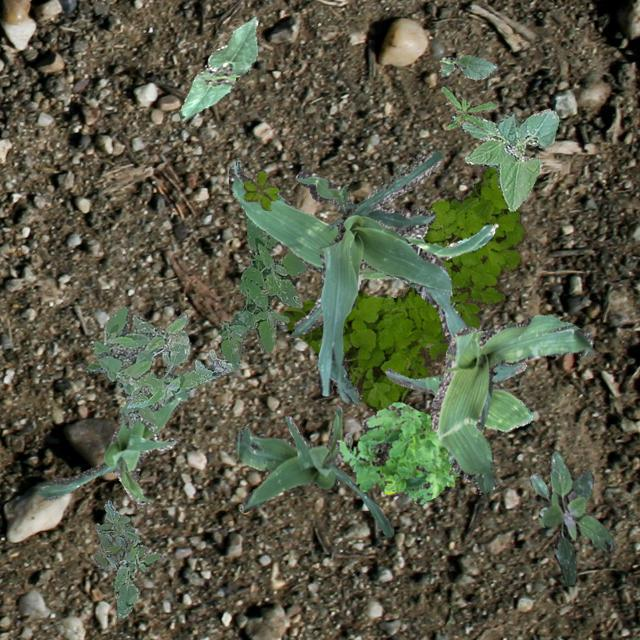crop: (228, 158, 497, 336), (294, 150, 466, 402), (430, 314, 592, 492), (234, 404, 392, 536), (38, 388, 188, 507), (450, 108, 558, 210), (384, 360, 532, 430), (178, 15, 258, 120), (438, 54, 497, 78)
weed: (283, 165, 526, 412), (218, 216, 310, 370), (84, 304, 188, 430), (334, 401, 458, 504), (528, 449, 614, 584), (125, 328, 232, 411), (111, 534, 162, 618), (92, 500, 136, 568), (440, 85, 498, 128), (242, 170, 278, 210)
